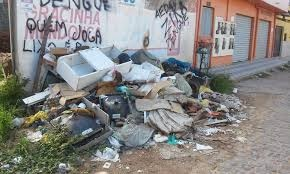rubble: (35, 53, 235, 137)
